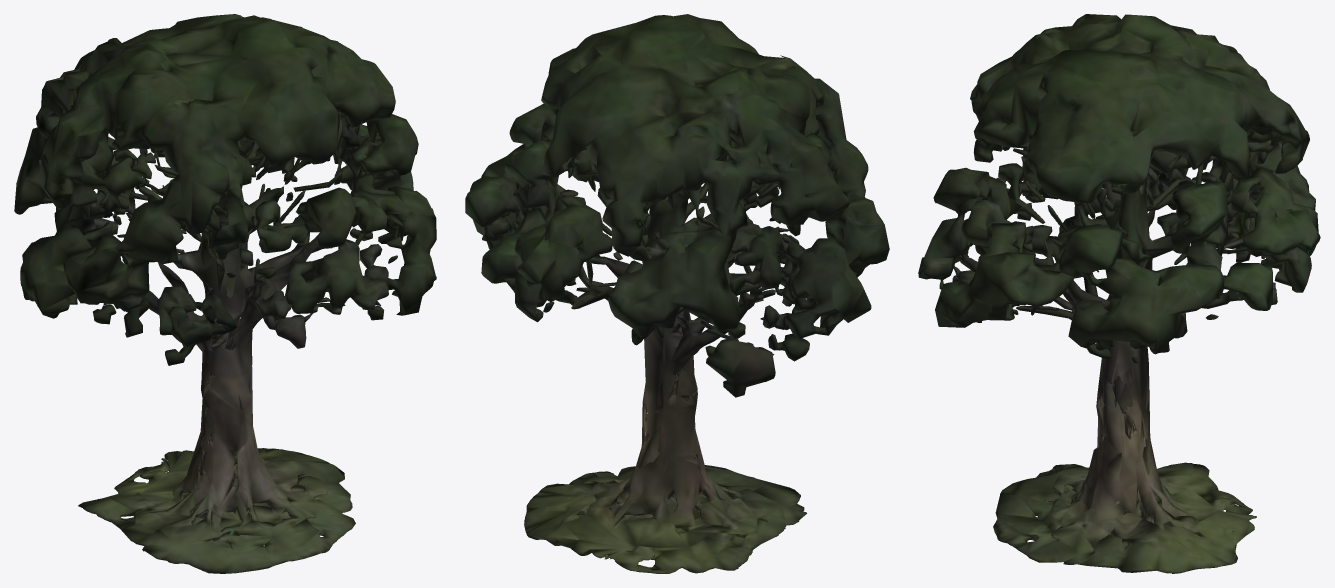
The model's file is arbre_meshy_allege.glb.
3 renders of one model, left to right at view 1: azimuth 30°, elevation 25°; view 2: azimuth 150°, elevation 25°; view 3: azimuth 270°, elevation 25°, orthographic. The views are drawn at different scales.
Bounding box in the file's own units: 1.61 × 1.97 × 1.5.
1 material, 1 textured.
